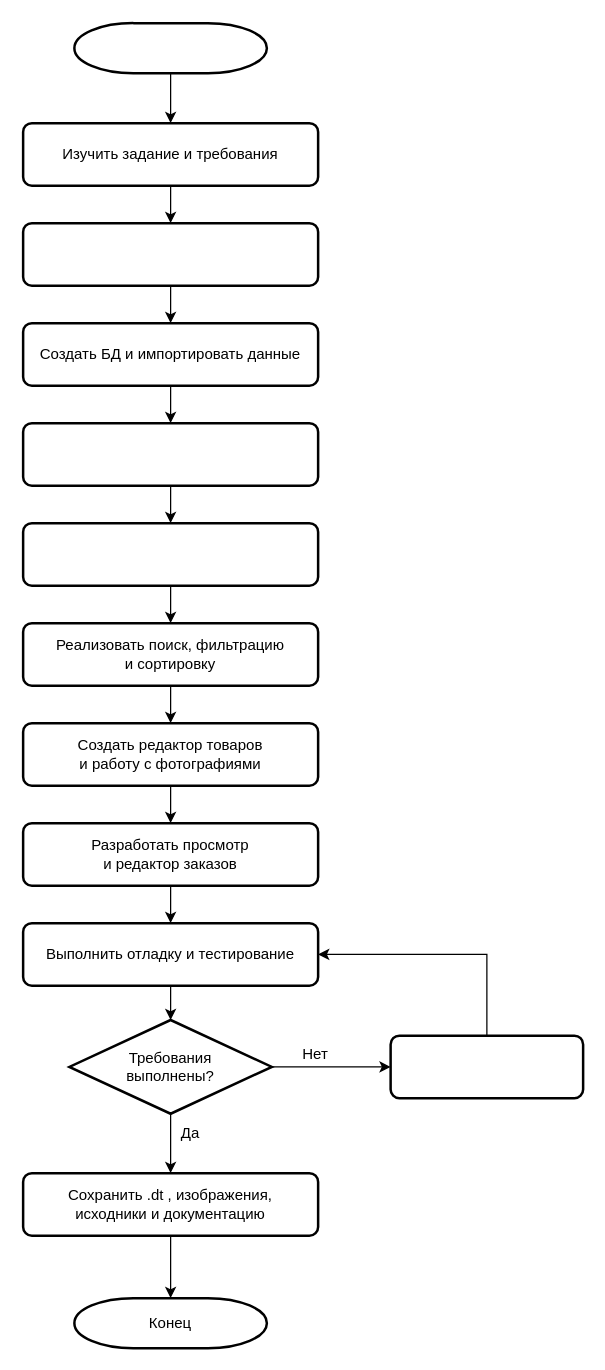
This 605x1370 diagram has some shape labels left out. The centre of each missing label's shape, as x and y in pixels:
"Исправить ошибки" goes at point (486, 1066).
"Начало" goes at point (170, 47).
"Разработать авторизацию и разграничение доступа" goes at point (170, 453).
"Создать каталог товаров" goes at point (170, 553).
"Спроектировать БД в 3НФ и построить ER-диаграмму" goes at point (170, 253).
